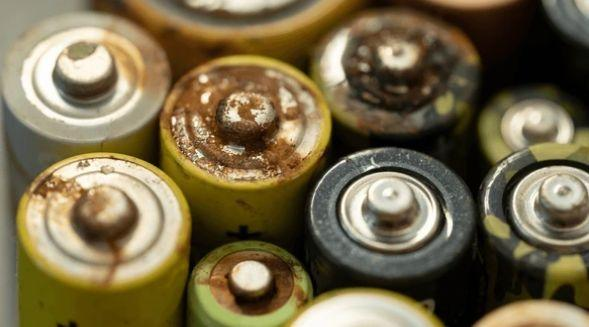battery: (3, 11, 175, 229), (14, 150, 194, 327), (303, 146, 480, 325), (308, 5, 481, 175), (166, 60, 324, 187), (476, 146, 588, 318), (186, 239, 314, 325), (477, 82, 588, 181), (128, 0, 352, 39)
